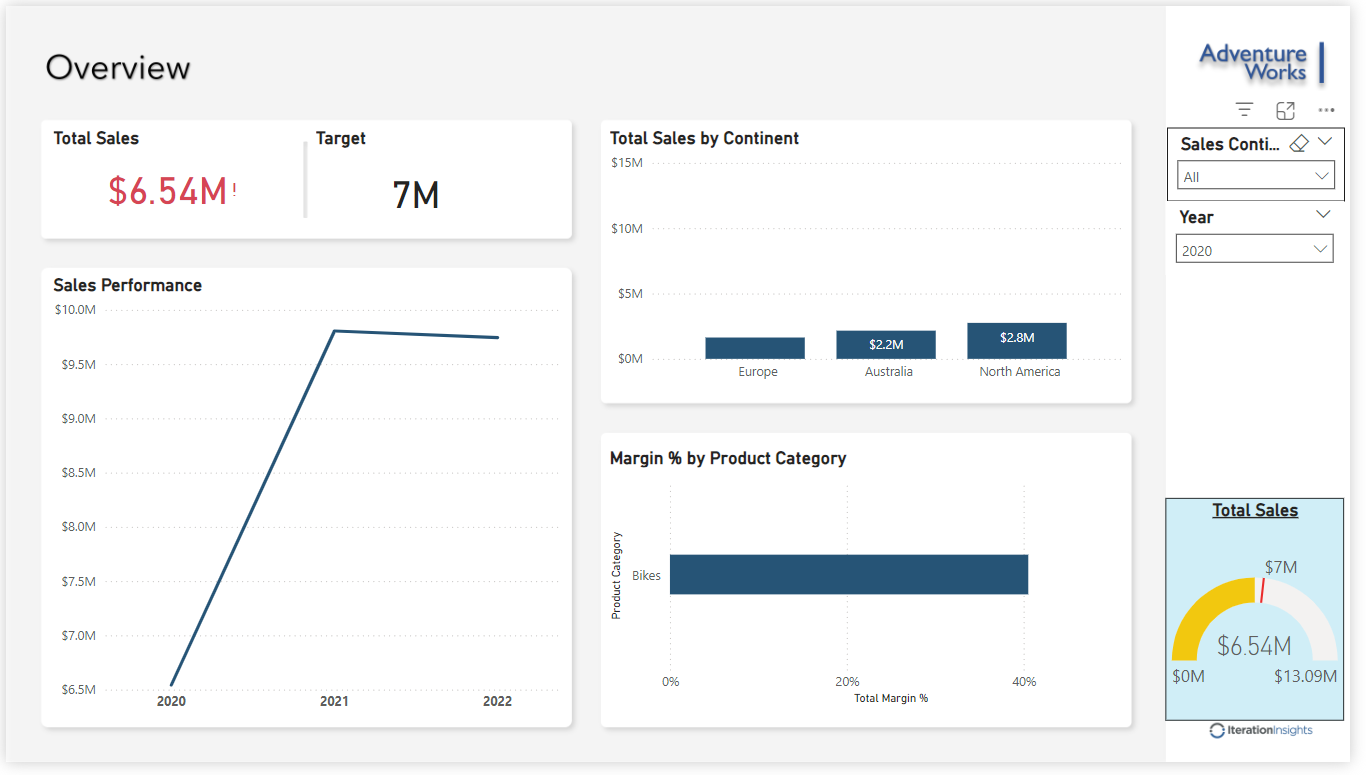

Layout of this report page (visuals, bound fields, positions):
{"tool":"powerbi","page":{"name":"Overview","canvas":[1280,720],"ordinal":0},"visuals":[{"type":"slicer","title":"Slicer Continent","fields":{"Values":["Sales Terriotry.Sales Territory Continent"]},"box":[1105,115,170,70],"z":6000},{"type":"slicer","title":"Slicer Year","fields":{"Values":["ORDER DATE.Order Date Year"]},"box":[1104,185,170,70],"z":7000},{"type":"clusteredBarChart","title":"Margin % by Product Category","fields":{"Category":["Product.Product Hierarchy.Product Category","Product.Product Hierarchy.Product SubCategory"],"Y":["Sales.TOTAL mARGIN%%"]},"box":[570,420,500,250],"z":7062},{"type":"lineChart","title":"Sales Performance ","fields":{"Y":["Sales.Total Sales"],"Category":["ORDER DATE.Order Date Hierarchy.Order Date Year","ORDER DATE.Order Date Hierarchy.Order Date Month","ORDER DATE.Order Date Hierarchy.ORDER DATE"]},"box":[40,255,495,425],"z":7125},{"type":"clusteredColumnChart","title":"Total Sales by Continent","fields":{"Category":["Sales Terriotry.Sales Territory Continent"],"Y":["Sales.Total Sales"]},"box":[570,115,500,250],"z":7187},{"type":"cardVisual","title":"Target","fields":{"Data":["Sales.Target"]},"box":[290,115,200,100],"z":7250},{"type":"kpi","title":"Total Sales ","fields":{"Indicator":["Sales.Total Sales"],"TrendLine":["ORDER DATE.Order Date Year"],"Goal":["Sales.Target"]},"box":[40,115,240,100],"z":7500},{"type":"gauge","title":"Total Sales","fields":{"Y":["Sales.YTD SALES"],"TargetValue":["Sales.Target"]},"box":[1104,468,170,212],"z":7501}]}

Visuals, with their boxes on the page's 1280x720 design canvas (x1, y1, x2, y2). These are canvas units, not pixel positions in the 1366x775 screenshot, which may show the page scaled, cropped or inside an application window:
"Slicer Continent" slicer: [1105, 115, 1275, 185]
"Slicer Year" slicer: [1104, 185, 1274, 255]
"Margin % by Product Category" clusteredBarChart: [570, 420, 1070, 670]
"Sales Performance " lineChart: [40, 255, 535, 680]
"Total Sales by Continent" clusteredColumnChart: [570, 115, 1070, 365]
"Target" cardVisual: [290, 115, 490, 215]
"Total Sales " kpi: [40, 115, 280, 215]
"Total Sales" gauge: [1104, 468, 1274, 680]
